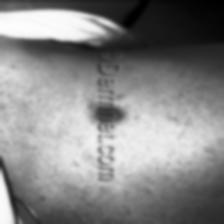Toxin: (96, 105, 122, 120)
